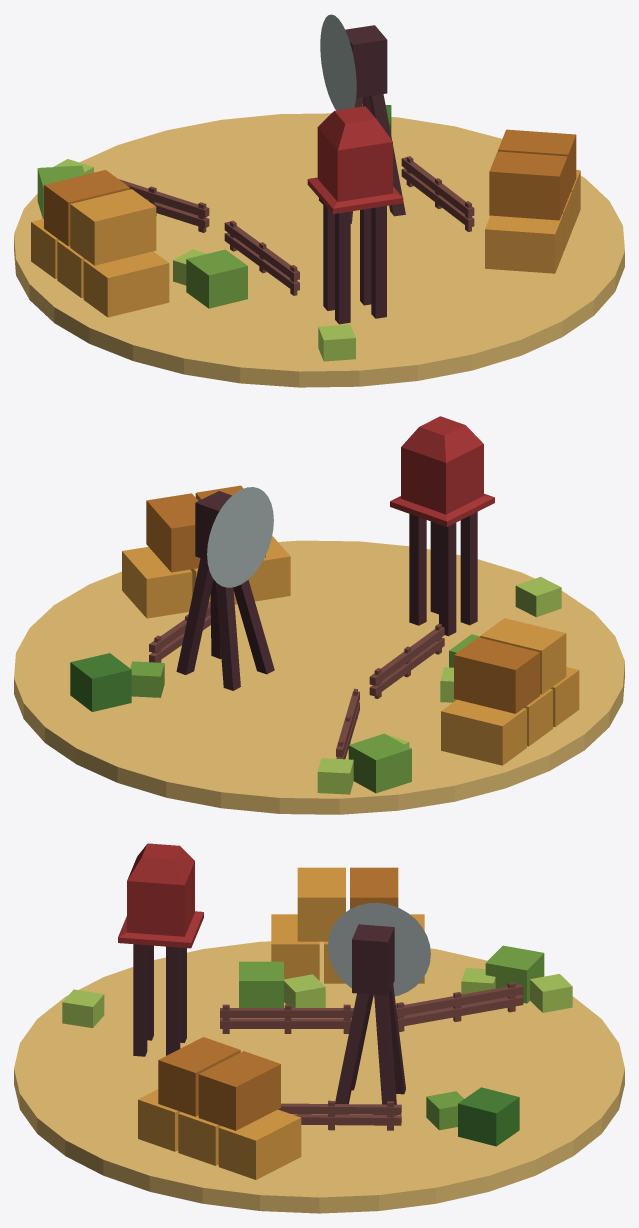
File: MapWest.fbx
The picture shows the model from 3 angles, top to bottom: view 1: azimuth 30°, elevation 25°; view 2: azimuth 150°, elevation 25°; view 3: azimuth 270°, elevation 25°; orthographic projection.
Parts seen in each view (by area): view 1: BASE, Cube.052, Cube.065, Cube.066, Cube.061, Cube.070, Cube.053, Cube.064, Circle, Cube.071, Cube.067, Cube.048 (+14 smaller); view 2: BASE, Cube.052, Cube.064, Circle, Cube.063, Cube.068, Cube.067, Cube.057, Cube.058, Cube.065, Cube.073, Cube.048 (+16 smaller); view 3: BASE, Cube.052, Cube.067, Circle, Cube.068, Cube.066, Cube.065, Cube.057, Cube.071, Cube.061, Cube.053, Cube.058 (+21 smaller).
Part boxes in pixels (<box>): BASE: <box>14,113,624,387</box>; Cube.052: <box>307,106,403,213</box>; Cube.065: <box>70,189,156,265</box>; Cube.066: <box>489,151,567,220</box>; Cube.061: <box>83,251,169,317</box>; Cube.070: <box>485,214,563,273</box>; Cube.053: <box>186,249,247,308</box>; Cube.064: <box>44,170,129,246</box>; Circle: <box>320,14,356,110</box>; Cube.071: <box>345,25,387,97</box>; Cube.067: <box>498,129,576,198</box>; Cube.048: <box>335,211,350,324</box>; BASE: <box>14,540,624,814</box>; Cube.052: <box>390,416,494,526</box>; Cube.064: <box>454,637,539,713</box>; Circle: <box>207,487,273,587</box>; Cube.063: <box>441,699,526,765</box>; Cube.068: <box>122,547,192,618</box>; Cube.067: <box>146,493,200,572</box>; Cube.057: <box>70,653,131,711</box>; Cube.058: <box>348,733,411,793</box>; Cube.065: <box>480,618,566,694</box>; Cube.073: <box>176,558,213,674</box>; Cube.048: <box>460,512,477,625</box>; BASE: <box>14,941,624,1213</box>; Cube.052: <box>118,843,203,948</box>; Cube.067: <box>198,1051,280,1130</box>; Circle: <box>327,903,430,996</box>; Cube.068: <box>218,1109,301,1179</box>; Cube.066: <box>158,1037,240,1116</box>; Cube.065: <box>297,867,345,941</box>; Cube.057: <box>458,1087,519,1146</box>; Cube.071: <box>352,924,394,995</box>; Cube.061: <box>271,914,319,980</box>; Cube.053: <box>239,961,283,1007</box>; Cube.058: <box>485,945,544,1003</box>.
Size of the model in its own units: 1175 by 1175 by 449.
Materials: 1 (1 with a texture image).
